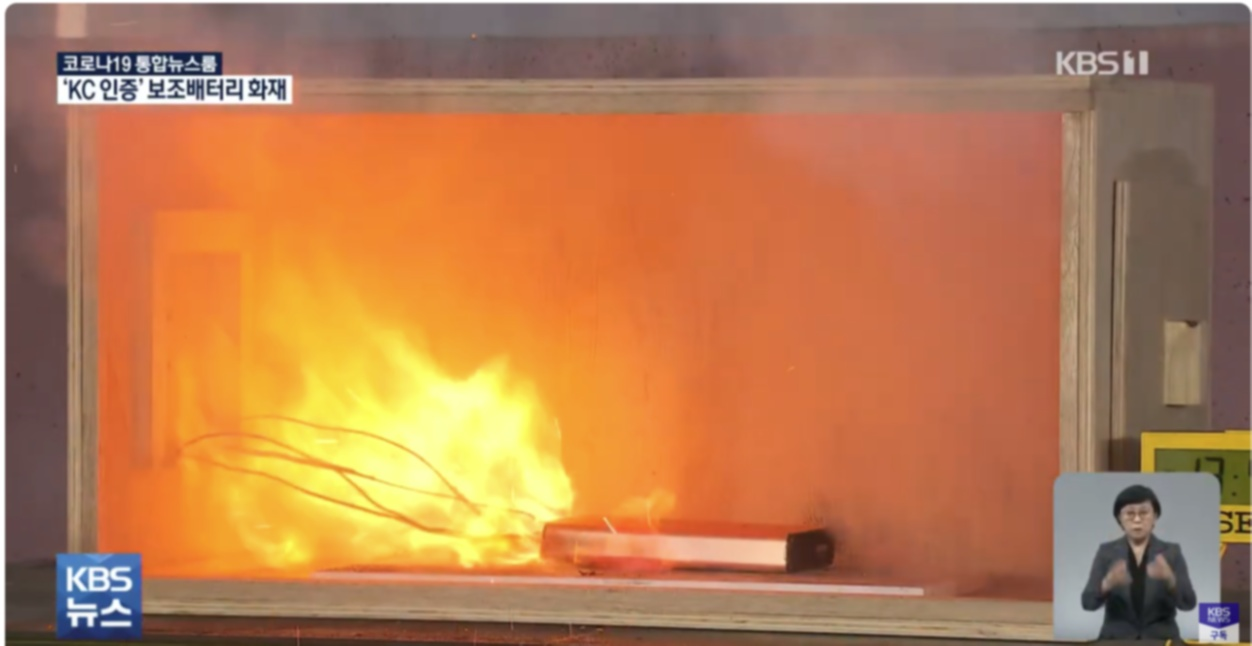fire: (188, 226, 603, 575)
